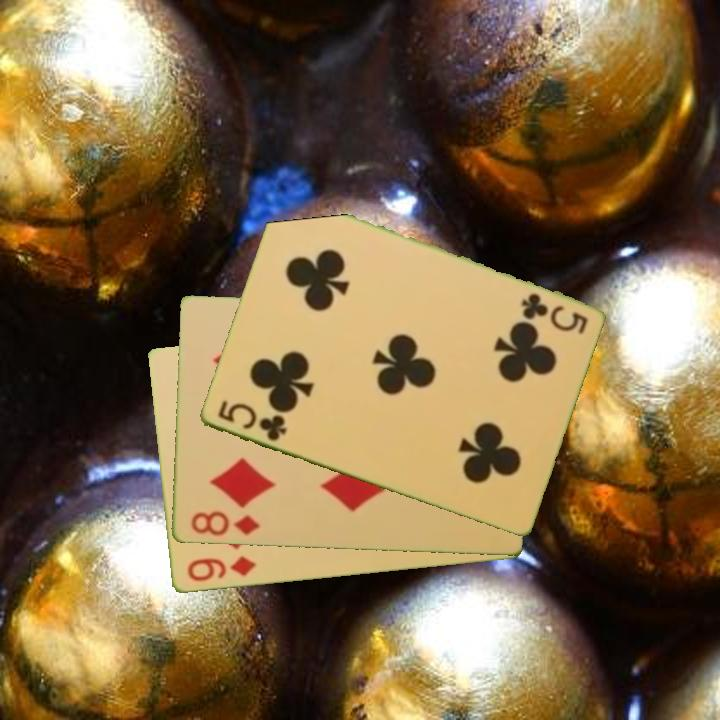5c: (213, 397, 289, 445), (517, 290, 590, 336)
8d: (187, 508, 262, 539)
9d: (183, 553, 259, 585)
